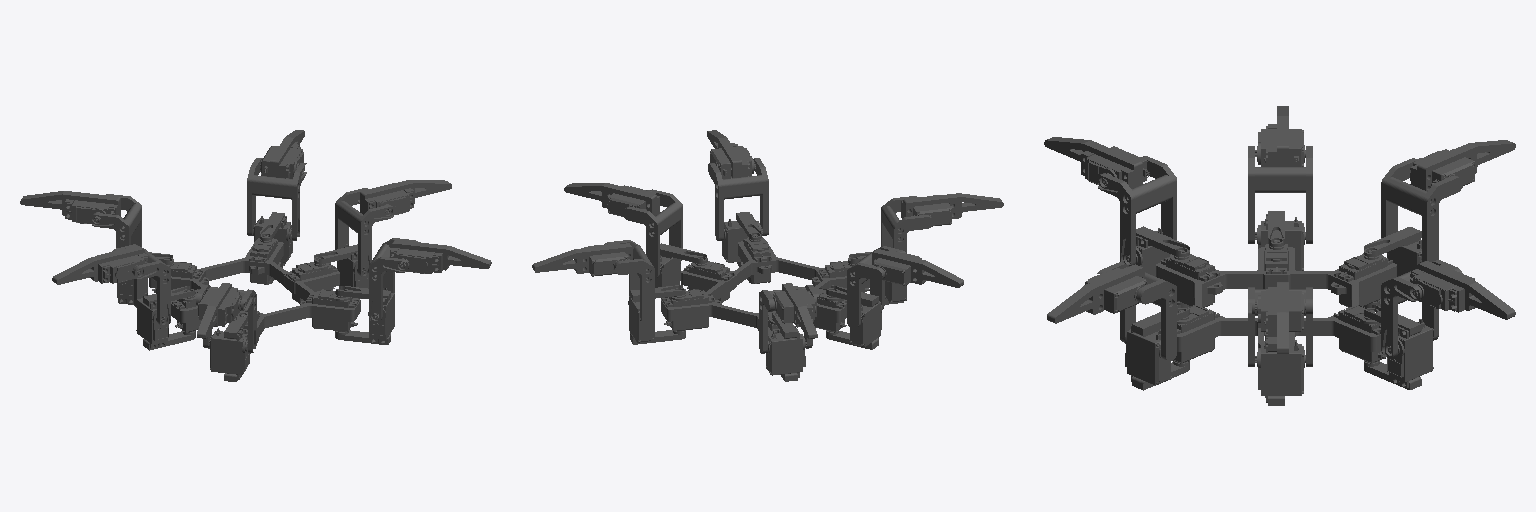
--- Render facts (derived) ---
The picture shows the robot from 3 angles, left to right: view 1: azimuth 30°, elevation 25°; view 2: azimuth 150°, elevation 25°; view 3: azimuth 270°, elevation 25°; orthographic projection.
Robot: hexapod — 55 links, 54 joints (18 revolute, 36 fixed); root link base; default pose: all joints at 0.
Visible links, largest first — view 1: base, leg_1_MG996R_f, leg_6_tibia, leg_2_tibia, leg_3_tibia, leg_5_tibia, leg_6_femur_c, leg_2_femur_c, leg_5_femur_c, leg_2_MG996R_f, leg_6_MG996R_c, leg_1_tibia (+18 smaller); view 2: base, leg_3_MG996R_f, leg_1_tibia, leg_4_tibia, leg_2_tibia, leg_4_femur_a, leg_5_tibia, leg_2_femur_a, leg_5_femur_a, leg_4_MG996R_c, leg_2_MG996R_f, leg_3_tibia (+20 smaller); view 3: base, leg_5_MG996R_f, leg_4_MG996R_f, leg_4_tibia, leg_6_MG996R_f, leg_6_tibia, leg_3_tibia, leg_1_tibia, leg_6_femur_a, leg_3_femur_a, leg_4_femur_c, leg_1_femur_c (+28 smaller).
Boxes of the visible links, bbox=[...] form: base: bbox=[149, 240, 360, 339]; leg_1_MG996R_f: bbox=[209, 328, 249, 379]; leg_6_tibia: bbox=[390, 240, 491, 272]; leg_2_tibia: bbox=[52, 246, 147, 284]; leg_3_tibia: bbox=[20, 191, 120, 218]; leg_5_tibia: bbox=[360, 180, 451, 214]; leg_6_femur_c: bbox=[369, 257, 408, 322]; leg_2_femur_c: bbox=[133, 261, 170, 325]; leg_5_femur_c: bbox=[358, 205, 394, 276]; leg_2_MG996R_f: bbox=[136, 293, 168, 348]; leg_6_MG996R_c: bbox=[306, 289, 358, 331]; leg_1_tibia: bbox=[197, 283, 237, 338]; base: bbox=[661, 239, 869, 333]; leg_3_MG996R_f: bbox=[766, 326, 806, 377]; leg_1_tibia: bbox=[901, 193, 1003, 218]; leg_4_tibia: bbox=[532, 243, 632, 273]; leg_2_tibia: bbox=[872, 249, 963, 287]; leg_4_femur_a: bbox=[614, 259, 654, 325]; leg_5_tibia: bbox=[564, 183, 659, 215]; leg_2_femur_a: bbox=[847, 263, 884, 328]; leg_5_femur_a: bbox=[622, 206, 659, 279]; leg_4_MG996R_c: bbox=[662, 289, 714, 331]; leg_2_MG996R_f: bbox=[850, 301, 882, 346]; leg_3_tibia: bbox=[782, 283, 817, 338]; base: bbox=[1156, 247, 1396, 351]; leg_5_MG996R_f: bbox=[1255, 337, 1304, 402]; leg_4_MG996R_f: bbox=[1387, 319, 1433, 388]; leg_4_tibia: bbox=[1411, 261, 1515, 319]; leg_6_MG996R_f: bbox=[1125, 325, 1171, 385]; leg_6_tibia: bbox=[1047, 264, 1144, 323]; leg_3_tibia: bbox=[1411, 140, 1515, 191]; leg_1_tibia: bbox=[1044, 137, 1142, 188]; leg_6_femur_a: bbox=[1136, 279, 1176, 361]; leg_3_femur_a: bbox=[1422, 175, 1463, 261]; leg_4_femur_c: bbox=[1381, 277, 1421, 357]; leg_1_femur_c: bbox=[1098, 173, 1135, 265].
Size in the robot's own frame: 0.4885 by 0.4015 by 0.1176 metres.
55 mesh visuals loaded from 14 distinct referenced files (13 binary STL, 1 ASCII STL).

The robot description file, URDF, robot "hexapod":
<?xml version='1.0' encoding='utf-8'?>
<robot name="hexapod">

    <material name="black">
        <color rgba="0 0 0 1" />
    </material>

    <material name="gray">
        <color rgba="0.4 0.4 0.4 1" />
    </material>

    <material name="white">
        <color rgba="1 1 1 1" />
    </material>

    <material name="orange">
        <color rgba="0.902 0.345 0 1" />
    </material>

    <!--Body links-->

    <link name="base">
        <inertial>
            <origin xyz="-1.762648324756278e-14 -5.050033455416569e-14 0.00698680031349181" rpy="0.0 0.0 0.0" />
            <mass value="0.6789580603579961" />
            <inertia ixx="0.0024074595101577626" iyy="0.002204354035625284" izz="0.004589855549230958" ixy="5.568836058961683e-16" iyz="-1.2787511591555878e-18" ixz="-2.581826811457711e-18" />
        </inertial>
        <visual name="base_visual">
            <origin xyz="0.0 0.0 0.0" rpy="0.0 0.0 0.0" />
            <geometry>
                <mesh filename="CAD/base.stl" scale="0.001 0.001 0.001" />
            </geometry>
            <material name="gray"/>
        </visual>
        <collision name="base_collision">
            <origin xyz="0.0 0.0 0.0" rpy="0.0 0.0 0.0" />
            <geometry>
                <mesh filename="CAD/base.stl" scale="0.001 0.001 0.001" />
            </geometry>
        </collision>
    </link>

    <!--Leg 1 links-->
    <link name="leg_1_MG996R_c">
        <inertial>
            <origin xyz="-0.0213566016347122 0.013931984749781528 0.00836989290746161" rpy="0.0 -0.0 0.0" />
            <mass value="0.207953278714177" />
            <inertia ixx="3.989639417761133e-05" iyy="3.989640031111844e-05" izz="3.6226092838335206e-05" ixy="1.1428841708080039e-05" iyz="3.349213930771384e-07" ixz="-3.349118845850951e-07" />
        </inertial>
        <visual name="leg_1_MG996R_c_visual">
            <origin xyz="-0.013930002111251416 -0.007283200121891475 2.2204460492503132e-17" rpy="3.141592653589793 1.245344534372108e-16 2.356194490192345" />
            <geometry>
                <mesh filename="CAD/MG996R.stl" scale="0.001 0.001 0.001" />
            </geometry>
            <material name="gray"/>
        </visual>
        <collision name="leg_1_MG996R_c_collision">
            <origin xyz="-0.013930002111251416 -0.007283200121891475 2.2204460492503132e-17" rpy="3.141592653589793 1.245344534372108e-16 2.356194490192345" />
            <geometry>
                <mesh filename="CAD/MG996R.stl" scale="0.001 0.001 0.001" />
            </geometry>
        </collision>
    </link>

    <link name="leg_1_MG996R_f">
        <inertial>
            <origin xyz="0.024952796767646526 0.009630716290236095 0.0022060948384998546" rpy="0.0 -0.0 0.0" />
            <mass value="0.207953278714177" />
            <inertia ixx="2.846755553628441e-05" iyy="4.377565917187119e-05" izz="4.377567261890959e-05" ixy="3.349144703087767e-07" iyz="-7.549573057054858e-06" ixz="3.349188073535178e-07" />
        </inertial>
        <visual name="leg_1_MG996R_f_visual">
            <origin xyz="0.004699996796564361 0.01060660093167094 -0.01060660586827753" rpy="2.3561944901923453 3.410597503508584e-17 1.540743955509788e-32" />
            <geometry>
                <mesh filename="CAD/MG996R.stl" scale="0.001 0.001 0.001" />
            </geometry>
            <material name="gray"/>
        </visual>
        <collision name="leg_1_MG996R_f_collision">
            <origin xyz="0.004699996796564361 0.01060660093167094 -0.01060660586827753" rpy="2.3561944901923453 3.410597503508584e-17 1.540743955509788e-32" />
            <geometry>
                <mesh filename="CAD/MG996R.stl" scale="0.001 0.001 0.001" />
            </geometry>
        </collision>
    </link>

    <link name="leg_1_MG996R_t">
        <inertial>
            <origin xyz="0.008979632074602933 -0.02311780679666102 4.09182035809863e-09" rpy="0.0 -0.0 7.002961686799377e-34" />
            <mass value="0.207953278714177" />
            <inertia ixx="3.187318053441031e-05" iyy="3.282046784020779e-05" izz="5.1325238952446006e-05" ixy="-3.879268651024205e-06" iyz="6.92276835135608e-12" ixz="-2.5857237346299217e-12" />
        </inertial>
        <visual name="leg_1_MG996R_t_visual">
            <origin xyz="0.0005771479097073318 -0.043357107026899176 -0.009749998110869998" rpy="1.5707963267948968 -2.529221735498422e-16 0.7853981633974484" />
            <geometry>
                <mesh filename="CAD/MG996R.stl" scale="0.001 0.001 0.001" />
            </geometry>
            <material name="gray"/>
        </visual>
        <collision name="leg_1_MG996R_t_collision">
            <origin xyz="0.0005771479097073318 -0.043357107026899176 -0.009749998110869998" rpy="1.5707963267948968 -2.529221735498422e-16 0.7853981633974484" />
            <geometry>
                <mesh filename="CAD/MG996R.stl" scale="0.001 0.001 0.001" />
            </geometry>
        </collision>
    </link>

    <link name="leg_1_coxa_a">
        <inertial>
            <origin xyz="0.008150925434592561 0.01830499415619695 0.0006271852210843588" rpy="0.0 -0.0 0.0" />
            <mass value="0.03329037594662584" />
            <inertia ixx="4.131218918157248e-06" iyy="4.292509549727152e-06" izz="8.13497513364118e-06" ixy="-3.4675873338201415e-06" iyz="-4.436065358599036e-08" ixz="-4.967608887462187e-08" />
        </inertial>
        <visual name="leg_1_coxa_a_visual">
            <origin xyz="-0.008308500528462624 0.0015909894715424855 -0.001750003203435586" rpy="-1.245344534372106e-16 1.5023172683244996e-16 -0.7853981633974481" />
            <geometry>
                <mesh filename="CAD/coxa_a_right.stl" scale="0.001 0.001 0.001" />
            </geometry>
            <material name="gray"/>
        </visual>
        <collision name="leg_1_coxa_a_collision">
            <origin xyz="-0.008308500528462624 0.0015909894715424855 -0.001750003203435586" rpy="-1.245344534372106e-16 1.5023172683244996e-16 -0.7853981633974481" />
            <geometry>
                <mesh filename="CAD/coxa_a_right.stl" scale="0.001 0.001 0.001" />
            </geometry>
        </collision>
    </link>

    <link name="leg_1_coxa_b">
        <inertial>
            <origin xyz="-0.016082730051457803 -0.015894011955612512 -0.005835649360206568" rpy="0.0 -0.0 0.0" />
            <mass value="0.04490836615745227" />
            <inertia ixx="7.570806724760545e-06" iyy="7.815179248384845e-06" izz="1.486969927151291e-05" ixy="-6.737300382606579e-06" iyz="-1.0459627444581849e-07" ixz="-1.0048041289742698e-07" />
        </inertial>
        <visual name="leg_1_coxa_b_visual">
            <origin xyz="-0.037476660528462616 -0.037476660528457516 0.04149999679656438" rpy="-1.245344534372106e-16 1.5023172683245e-16 -0.7853981633974481" />
            <geometry>
                <mesh filename="CAD/coxa_b_right.stl" scale="0.001 0.001 0.001" />
            </geometry>
            <material name="gray"/>
        </visual>
        <collision name="leg_1_coxa_b_collision">
            <origin xyz="-0.037476660528462616 -0.037476660528457516 0.04149999679656438" rpy="-1.245344534372106e-16 1.5023172683245e-16 -0.7853981633974481" />
            <geometry>
                <mesh filename="CAD/coxa_b_right.stl" scale="0.001 0.001 0.001" />
            </geometry>
        </collision>
    </link>

    <link name="leg_1_femur_a">
        <inertial>
            <origin xyz="-0.007313766969440483 -0.0018738117298011225 0.03907114287949463" rpy="0.0 -0.0 0.0" />
            <mass value="0.06532641332455354" />
            <inertia ixx="4.0924780174512575e-05" iyy="4.0827509479549485e-05" izz="8.434001460605163e-06" ixy="-3.990162260728773e-06" iyz="7.2994033516955215e-06" ixz="7.334386903970892e-06" />
        </inertial>
        <visual name="leg_1_femur_a_visual">
            <origin xyz="-0.0007071020514142746 0.0007071066182250796 -3.203435625653839e-09" rpy="1.5707963267948966 -0.6108652381980162 -2.356194490192345" />
            <geometry>
                <mesh filename="CAD/femur_a_right.stl" scale="0.001 0.001 0.001" />
            </geometry>
            <material name="gray"/>
        </visual>
        <collision name="leg_1_femur_a_collision">
            <origin xyz="-0.0007071020514142746 0.0007071066182250796 -3.203435625653839e-09" rpy="1.5707963267948966 -0.6108652381980162 -2.356194490192345" />
            <geometry>
                <mesh filename="CAD/femur_a_right.stl" scale="0.001 0.001 0.001" />
            </geometry>
        </collision>
    </link>
    
    <link name="leg_1_femur_b">
        <inertial>
            <origin xyz="0.015606805962859537 0.015152340349115861 -0.0052004379221506185" rpy="0.0 -0.0 -7.002961686799377e-34" />
            <mass value="0.0800214310563922" />
            <inertia ixx="9.693159673782297e-06" iyy="9.69315967378208e-06" izz="1.3901924233197978e-05" ixy="-5.667417293105776e-06" iyz="-1.3985747771352728e-07" ixz="1.398574777137448e-07" />
        </inertial>
        <visual name="leg_1_femur_b_visual">
            <origin xyz="-2.051414238479765e-09 3.3817748779085832e-09 0.04770578320343561" rpy="-1.5707963267948968 0.6108652381980162 2.356194490192345" />
            <geometry>
                <mesh filename="CAD/femur_b_right.stl" scale="0.001 0.001 0.001" />
            </geometry>
            <material name="gray"/>
        </visual>
        <collision name="leg_1_femur_b_collision">
            <origin xyz="-2.051414238479765e-09 3.3817748779085832e-09 0.04770578320343561" rpy="-1.5707963267948968 0.6108652381980162 2.356194490192345" />
            <geometry>
                <mesh filename="CAD/femur_b_right.stl" scale="0.001 0.001 0.001" />
            </geometry>
        </collision>
    </link>

    <link name="leg_1_femur_c">
        <inertial>
            <origin xyz="-0.0010886446390956995 -0.004918304334164514 -0.006733416303654849" rpy="0.0 -0.0 7.002961686799377e-34" />
            <mass value="0.048399072148255506" />
            <inertia ixx="2.2465407655417502e-05" iyy="2.259983189186051e-05" izz="4.141692185716337e-06" ixy="-1.929776213000357e-06" iyz="3.2931885882197726e-06" ixz="3.246172654049007e-06" />
        </inertial>
        <visual name="leg_1_femur_c_visual">
            <origin xyz="-0.030759142051414213 0.03075914661822509 -0.04770578320343558" rpy="1.5707963267948966 -0.6108652381980162 -2.356194490192345" />
            <geometry>
                <mesh filename="CAD/femur_c_right.stl" scale="0.001 0.001 0.001" />
            </geometry>
            <material name="gray"/>
        </visual>
        <collision name="leg_1_femur_c_collision">
            <origin xyz="-0.030759142051414213 0.03075914661822509 -0.04770578320343558" rpy="1.5707963267948966 -0.6108652381980162 -2.356194490192345" />
            <geometry>
                <mesh filename="CAD/femur_c_right.stl" scale="0.001 0.001 0.001" />
            </geometry>
        </collision>
    </link>

    <link name="leg_1_tibia">
        <inertial>
            <origin xyz="-0.04085132676876166 0.025253080823863953 -0.009277024870086095" rpy="0.0 -0.0 -1.6038036517675087e-64" />
            <mass value="0.10828707727885009" />
            <inertia ixx="5.5437188486367334e-05" iyy="6.147434583849689e-05" izz="0.0001071830159033978" ixy="5.173583962738001e-05" iyz="-2.259988236504463e-06" ixz="1.476543947169463e-06" />
        </inertial>
        <visual name="leg_1_tibia_visual">
            <origin xyz="-0.03719381938681872 0.026870057867797073 0.004749998110869997" rpy="2.356194490192345 1.5707963267948963 0" />
            <geometry>
                <mesh filename="CAD/tibia_right.stl" scale="0.001 0.001 0.001" />
            </geometry>
            <material name="gray"/>
        </visual>
        <collision name="leg_1_tibia_collision">
            <origin xyz="-0.03719381938681872 0.026870057867797073 0.004749998110869997" rpy="2.356194490192345 1.5707963267948963 0" />
            <geometry>
                <mesh filename="CAD/tibia_right.stl" scale="0.001 0.001 0.001" />
            </geometry>
        </collision>
    </link>

    <!-- Leg 2 links -->
    <link name="leg_2_MG996R_c">
        <inertial>
            <origin xyz="-0.024952799971082146 0.005250002202690392 0.008369892907461582" rpy="0.0 -0.0 0.0" />
            <mass value="0.207953278714177" />
            <inertia ixx="2.8467555536284703e-05" iyy="5.132523895244492e-05" izz="3.6226092838336074e-05" ixy="-3.0667533548436243e-12" iyz="6.723519192224986e-12" ixz="-4.736436528994054e-07" />
        </inertial>
        <visual name="leg_2_MG996R_c_visual">
            <origin xyz="-0.004700000000000069 -0.004499999999999934 -4.440892098500626e-18" rpy="3.141592653589793 1.2514850379350087e-16 3.141592653589793" />
            <geometry>
                <mesh filename="CAD/MG996R.stl" scale="0.001 0.001 0.001" />
            </geometry>
            <material name="gray"/>
        </visual>
        <collision name="leg_2_MG996R_c_collision">
            <origin xyz="-0.004700000000000069 -0.004499999999999934 -4.440892098500626e-18" rpy="3.141592653589793 1.2514850379350087e-16 3.141592653589793" />
            <geometry>
                <mesh filename="CAD/MG996R.stl" scale="0.001 0.001 0.001" />
            </geometry>
        </collision>
    </link>

    <link name="leg_2_MG996R_f">
        <inertial>
            <origin xyz="0.024952796767646605 0.008369892907461447 0.005250002202690141" rpy="0.0 -0.0 0.0" />
            <mass value="0.207953278714177" />
            <inertia ixx="2.8467555536284845e-05" iyy="3.622609283833412e-05" izz="5.1325238952444346e-05" ixy="4.7364365289941395e-07" iyz="6.723519520811499e-12" ixz="3.0667537330138564e-12" />
        </inertial>
        <visual name="leg_2_MG996R_f_visual">
            <origin xyz="0.004699996796564441 -1.176836406102666e-16 -0.004500000000000206" rpy="1.570796326794899 3.106065884736969e-17 -3.1060658847369654e-17" />
            <geometry>
                <mesh filename="CAD/MG996R.stl" scale="0.001 0.001 0.001" />
            </geometry>
            <material name="gray"/>
        </visual>
        <collision name="leg_2_MG996R_f_collision">
            <origin xyz="0.004699996796564441 -1.176836406102666e-16 -0.004500000000000206" rpy="1.570796326794899 3.106065884736969e-17 -3.1060658847369654e-17" />
            <geometry>
                <mesh filename="CAD/MG996R.stl" scale="0.001 0.001 0.001" />
            </geometry>
        </collision>
    </link>

    <link name="leg_2_MG996R_t">
        <inertial>
            <origin xyz="-0.009997198350766468 -0.022696317092538602 4.091820313689709e-09" rpy="0.0 -0.0 0.0" />
            <mass value="0.207953278714177" />
            <inertia ixx="2.846755553628441e-05" iyy="3.622609283833629e-05" izz="5.1325238952446006e-05" ixy="4.7364365289906656e-07" iyz="6.723519185386452e-12" ixz="3.066753448410786e-12" />
        </inertial>
        <visual name="leg_2_MG996R_t_visual">
            <origin xyz="-0.030249998321848538 -0.03106621000000017 -0.00974999811087005" rpy="1.5707963267948968 -5.562433471528925e-16 1.6653345369377316e-16" />
            <geometry>
                <mesh filename="CAD/MG996R.stl" scale="0.001 0.001 0.001" />
            </geometry>
            <material name="gray"/>
        </visual>
        <collision name="leg_2_MG996R_t_collision">
            <origin xyz="-0.030249998321848538 -0.03106621000000017 -0.00974999811087005" rpy="1.5707963267948968 -5.562433471528925e-16 1.6653345369377316e-16" />
            <geometry>
                <mesh filename="CAD/MG996R.stl" scale="0.001 0.001 0.001" />
            </geometry>
        </collision>
    </link>

    <link name="leg_2_coxa_a">
        <inertial>
            <origin xyz="0.018707157766217345 0.00718001434038852 0.0006271852210843853" rpy="0.0 -0.0 0.0" />
            <mass value="0.03329037594662584" />
            <inertia ixx="7.442769001220687e-07" iyy="7.67945156776226e-06" izz="8.134975133641234e-06" ixy="8.064531578484873e-08" iyz="3.7585803375684765e-09" ixz="-6.649401827460747e-08" />
        </inertial>
        <visual name="leg_2_coxa_a_visual">
            <origin xyz="-0.0047499999999997475 0.006999999999999875 -0.0017500032034355596" rpy="-1.3218501401405977e-16 1.5665418669671956e-16 -1.5707963267948943" />
            <geometry>
                <mesh filename="CAD/coxa_a_right.stl" scale="0.001 0.001 0.001" />
            </geometry>
            <material name="gray"/>
        </visual>
        <collision name="leg_2_coxa_a_collision">
            <origin xyz="-0.0047499999999997475 0.006999999999999875 -0.0017500032034355596" rpy="-1.3218501401405977e-16 1.5665418669671956e-16 -1.5707963267948943" />
            <geometry>
                <mesh filename="CAD/coxa_a_right.stl" scale="0.001 0.001 0.001" />
            </geometry>
        </collision>
    </link>

    <link name="leg_2_coxa_b">
        <inertial>
            <origin xyz="-0.022610969521651363 0.000133443845301142 -0.005835649360206497" rpy="0.0 -0.0 0.0" />
            <mass value="0.04490836615745227" />
            <inertia ixx="9.55692603965828e-07" iyy="1.4430293369179057e-05" izz="1.4869699271513235e-05" ixy="1.221862618118398e-07" iyz="-2.9103536113086024e-09" ixz="-1.4501111628368105e-07" />
        </inertial>
        <visual name="leg_2_coxa_b_visual">
            <origin xyz="-0.05299999999999983 -7.105427357601002e-17 0.04149999679656445" rpy="-1.3218501401405972e-16 1.5665418669671956e-16 -1.5707963267948943" />
            <geometry>
                <mesh filename="CAD/coxa_b_right.stl" scale="0.001 0.001 0.001" />
            </geometry>
            <material name="gray"/>
        </visual>
        <collision name="leg_2_coxa_b_collision">
            <origin xyz="-0.05299999999999983 -7.105427357601002e-17 0.04149999679656445" rpy="-1.3218501401405972e-16 1.5665418669671956e-16 -1.5707963267948943" />
            <geometry>
                <mesh filename="CAD/coxa_b_right.stl" scale="0.001 0.001 0.001" />
            </geometry>
        </collision>
    </link>

    <link name="leg_2_femur_a">
        <inertial>
            <origin xyz="-0.006496602430141571 0.0038466359024208695 0.039071142879494716" rpy="0.0 -0.0 0.0" />
            <mass value="0.06532641332455354" />
            <inertia ixx="3.6885982566301823e-05" iyy="4.486630708775948e-05" izz="8.434001460604947e-06" ixy="-4.863534748184343e-08" iyz="-2.473710704388476e-08" ixz="1.0347652324243302e-05" />
        </inertial>
        <visual name="leg_2_femur_a_visual">
            <origin xyz="1.4210854715202004e-16 0.0010000032034353757 -3.203435545717781e-09" rpy="1.5707963267948966 -0.6108652381980165 3.141592653589793" />
            <geometry>
                <mesh filename="CAD/femur_a_right.stl" scale="0.001 0.001 0.001" />
            </geometry>
            <material name="gray"/>
        </visual>
        <collision name="leg_2_femur_a_collision">
            <origin xyz="1.4210854715202004e-16 0.0010000032034353757 -3.203435545717781e-09" rpy="1.5707963267948966 -0.6108652381980165 3.141592653589793" />
            <geometry>
                <mesh filename="CAD/femur_a_right.stl" scale="0.001 0.001 0.001" />
            </geometry>
        </collision>
    </link>
    
    <link name="leg_2_femur_b">
        <inertial>
            <origin xyz="0.00032135955913933147 0.021749996796564624 -0.005200437922150671" rpy="0.0 -0.0 0.0" />
            <mass value="0.0800214310563922" />
            <inertia ixx="1.536057696688715e-05" iyy="4.025742380675979e-06" izz="1.3901924233198412e-05" ixy="6.844026213814747e-19" iyz="1.3213713977167085e-19" ixz="1.9778834178156915e-07" />
        </inertial>
        <visual name="leg_2_femur_b_visual">
            <origin xyz="1.7763568394002506e-16 -3.203435303689162e-09 0.04770578320343555" rpy="-1.5707963267948966 0.6108652381980165 -3.141592653589793" />
            <geometry>
                <mesh filename="CAD/femur_b_right.stl" scale="0.001 0.001 0.001" />
            </geometry>
            <material name="gray"/>
        </visual>
        <collision name="leg_2_femur_b_collision">
            <origin xyz="1.7763568394002506e-16 -3.203435303689162e-09 0.04770578320343555" rpy="-1.5707963267948966 0.6108652381980165 -3.141592653589793" />
            <geometry>
                <mesh filename="CAD/femur_b_right.stl" scale="0.001 0.001 0.001" />
            </geometry>
        </collision>
    </link>

    <link name="leg_2_femur_c">
        <inertial>
            <origin xyz="-0.004247557582456559 -0.0027079742218780512 -0.016733416303654804" rpy="0.0 -0.0 0.0" />
            <mass value="0.048399072148255506" />
            <inertia ixx="2.0602843560638297e-05" iyy="2.4462395986639147e-05" izz="4.141692185716554e-06" ixy="6.721211822085377e-08" iyz="3.3245285875999574e-08" ixz="4.624026679036694e-06" />
        </inertial>
        <visual name="leg_2_femur_c_visual">
            <origin xyz="1.9539925233402755e-16 0.043500003203435327 -0.05770578320343554" rpy="1.5707963267948966 -0.6108652381980164 3.1415926535897927" />
            <geometry>
                <mesh filename="CAD/femur_c_right.stl" scale="0.001 0.001 0.001" />
            </geometry>
            <material name="gray"/>
        </visual>
        <collision name="leg_2_femur_c_collision">
            <origin xyz="1.9539925233402755e-16 0.043500003203435327 -0.05770578320343554" rpy="1.5707963267948966 -0.6108652381980164 3.1415926535897927" />
            <geometry>
                <mesh filename="CAD/femur_c_right.stl" scale="0.001 0.001 0.001" />
            </geometry>
        </collision>
    </link>

    <link name="leg_2_tibia">
        <inertial>
            <origin xyz="0.0028571288389278495 0.011029623704799596 0.00927702487008597" rpy="0.0 -0.0 4.125340265343691e-64" />
            <mass value="0.10828707727885009" />
            <inertia ixx="6.719927535051777e-06" iyy="0.00011019160678981191" izz="0.00010718301590339737" ixy="3.0185786760642376e-06" iyz="-5.539787696705092e-07" ixz="-2.642127245197634e-06" />
        </inertial>
        <visual name="leg_2_tibia_visual">
            <origin xyz="0.0043000016781514815 0.007299999999999815 -0.004749998110870122" rpy="-1.5707963267948966 -1.5707963267948961 0" />
            <geometry>
                <mesh filename="CAD/tibia_right.stl" scale="0.001 0.001 0.001" />
            </geometry>
            <material name="gray"/>
        </visual>
        <collision name="leg_2_tibia_collision">
            <origin xyz="0.0043000016781514815 0.007299999999999815 -0.004749998110870122" rpy="-1.5707963267948966 -1.5707963267948961 0" />
            <geometry>
                <mesh filename="CAD/tibia_right.stl" scale="0.001 0.001 0.001" />
            </geometry>
        </collision>
    </link>

    <!-- Leg 3 links -->
    <link name="leg_3_MG996R_c">
        <inertial>
            <origin xyz="-0.013931984749787879 -0.02135660163470809 0.008369892907461584" rpy="0.0 -0.0 0.0" />
            <mass value="0.207953278714177" />
            <inertia ixx="3.989640031111866e-05" iyy="3.989639417761111e-05" izz="3.6226092838336074e-05" ixy="-1.1428841708080147e-05" iyz="-3.349118845850544e-07" ixz="-3.349213930771926e-07" />
        </inertial>
        <visual name="leg_3_MG996R_c_visual">
            <origin xyz="0.007283200121885134 -0.013930002111247317 -6.661338147750939e-18" rpy="3.1415926535897927 1.586806286402691e-16 -2.356194490192345" />
            <geometry>
                <mesh filename="CAD/MG996R.stl" scale="0.001 0.001 0.001" />
            </geometry>
            <material name="gray"/>
        </visual>
        <collision name="leg_3_MG996R_c_collision">
            <origin xyz="0.007283200121885134 -0.013930002111247317 -6.661338147750939e-18" rpy="3.1415926535897927 1.586806286402691e-16 -2.356194490192345" />
            <geometry>
                <mesh filename="CAD/MG996R.stl" scale="0.001 0.001 0.001" />
            </geometry>
        </collision>
    </link>

    <link name="leg_3_MG996R_f">
        <inertial>
            <origin xyz="0.024952796767646567 0.0022060948384957334 -0.009630716290229949" rpy="0.0 -0.0 0.0" />
            <mass value="0.207953278714177" />
            <inertia ixx="2.8467555536283544e-05" iyy="4.377567261890894e-05" izz="4.377565917186967e-05" ixy="3.349188073535652e-07" iyz="7.5495730570552914e-06" ixz="-3.3491447030884445e-07" />
        </inertial>
        <visual name="leg_3_MG996R_f_visual">
            <origin xyz="0.004699996796564403 -0.010606605868281669 -0.010606600931664793" rpy="0.7853981633974482 -1.7256332301709629e-31 -2.386633879938858e-16" />
            <geometry>
                <mesh filename="CAD/MG996R.stl" scale="0.001 0.001 0.001" />
            </geometry>
            <material name="gray"/>
        </visual>
        <collision name="leg_3_MG996R_f_collision">
            <origin xyz="0.004699996796564403 -0.010606605868281669 -0.010606600931664793" rpy="0.7853981633974482 -1.7256332301709629e-31 -2.386633879938858e-16" />
            <geometry>
                <mesh filename="CAD/MG996R.stl" scale="0.001 0.001 0.001" />
            </geometry>
        </collision>
    </link>

    <link name="leg_3_MG996R_t">
        <inertial>
            <origin xyz="-0.02311780679666722 -0.00897963207460709 4.09182025151722e-09" rpy="-3.0814879110195774e-33 -0.0 4.9780954463047874e-34" />
            <mass value="0.207953278714177" />
            <inertia ixx="3.282046784020779e-05" iyy="3.187318053441116e-05" izz="5.132523895244599e-05" ixy="3.879268651025068e-06" iyz="2.5857233037326132e-12" ixz="6.922768561105084e-12" />
        </inertial>
        <visual name="leg_3_MG996R_t_visual">
            <origin xyz="-0.04335710702690537 -0.0005771479097114707 -0.009749998110870121" rpy="1.5707963267948977 -4.813217404829715e-16 -0.7853981633974486" />
            <geometry>
                <mesh filename="CAD/MG996R.stl" scale="0.001 0.001 0.001" />
            </geometry>
            <material name="gray"/>
        </visual>
        <collision name="leg_3_MG996R_t_collision">
            <origin xyz="-0.04335710702690537 -0.0005771479097114707 -0.009749998110870121" rpy="1.5707963267948977 -4.813217404829715e-16 -0.7853981633974486" />
            <geometry>
                <mesh filename="CAD/MG996R.stl" scale="0.001 0.001 0.001" />
            </geometry>
        </collision>
    </link>

    <link name="leg_3_coxa_a">
        <inertial>
            <origin xyz="0.01830499415619089 -0.008150925434596666 0.0006271852210843631" rpy="0.0 -0.0 -6.566986231973194e-63" />
            <mass value="0.03329037594662584" />
            <inertia ixx="4.292509549727098e-06" iyy="4.131218918157248e-06" izz="8.13497513364118e-06" ixy="3.4675873338200873e-06" iyz="4.967608887466253e-08" ixz="-4.436065358600391e-08" />
        </inertial>
        <visual name="leg_3_coxa_a_visual">
            <origin xyz="0.001590989471536428 0.00830850052845852 -0.0017500032034355774" rpy="-2.4306087867598536e-16 7.892504736715235e-16 -2.356194490192345" />
            <geometry>
                <mesh filename="CAD/coxa_a_right.stl" scale="0.001 0.001 0.001" />
            </geometry>
            <material name="gray"/>
        </visual>
        <collision name="leg_3_coxa_a_collision">
            <origin xyz="0.001590989471536428 0.00830850052845852 -0.0017500032034355774" rpy="-2.4306087867598536e-16 7.892504736715235e-16 -2.356194490192345" />
            <geometry>
                <mesh filename="CAD/coxa_a_right.stl" scale="0.001 0.001 0.001" />
            </geometry>
        </collision>
    </link>

    <link name="leg_3_coxa_b">
        <inertial>
            <origin xyz="-0.015894011955618632 0.01608273005145376 -0.005835649360206514" rpy="0.0 -0.0 -3.0385816786431342e-64" />
            <mass value="0.04490836615745227" />
            <inertia ixx="7.815179248384956e-06" iyy="7.570806724760494e-06" izz="1.4869699271513133e-05" ixy="6.737300382606636e-06" iyz="1.0048041289748125e-07" ixz="-1.0459627444577788e-07" />
        </inertial>
        <visual name="leg_3_coxa_b_visual">
            <origin xyz="-0.03747666052846363 0.037476660528458564 0.04149999679656442" rpy="-2.430608786759849e-16 7.892504736715233e-16 -2.356194490192345" />
            <geometry>
                <mesh filename="CAD/coxa_b_right.stl" scale="0.001 0.001 0.001" />
            </geometry>
            <material name="gray"/>
        </visual>
        <collision name="leg_3_coxa_b_collision">
            <origin xyz="-0.03747666052846363 0.037476660528458564 0.04149999679656442" rpy="-2.430608786759849e-16 7.892504736715233e-16 -2.356194490192345" />
            <geometry>
                <mesh filename="CAD/coxa_b_right.stl" scale="0.001 0.001 0.001" />
            </geometry>
        </collision>
    </link>

    <link name="leg_3_femur_a">
        <inertial>
            <origin xyz="-0.0018738117298073664 0.007313766969436255 0.039071142879494695" rpy="0.0 -0.0 -6.566986231973194e-63" />
            <mass value="0.06532641332455354" />
            <inertia ixx="4.0827509479549485e-05" iyy="4.0924780174512575e-05" izz="8.434001460605163e-06" ixy="3.9901622607286646e-06" iyz="-7.334386903970838e-06" ixz="7.299403351695576e-06" />
        </inertial>
        <visual name="leg_3_femur_a_visual">
            <origin xyz="0.0007071066182188535 0.0007071020514100468 -3.203435556820011e-09" rpy="1.5707963267948954 -0.6108652381980157 2.356194490192345" />
            <geometry>
                <mesh filename="CAD/femur_a_right.stl" scale="0.001 0.001 0.001" />
            </geometry>
            <material name="gray"/>
        </visual>
        <collision name="leg_3_femur_a_collision">
            <origin xyz="0.0007071066182188535 0.0007071020514100468 -3.203435556820011e-09" rpy="1.5707963267948954 -0.6108652381980157 2.356194490192345" />
            <geometry>
                <mesh filename="CAD/femur_a_right.stl" scale="0.001 0.001 0.001" />
            </geometry>
        </collision>
    </link>

    <link name="leg_3_femur_b">
        <inertial>
            <origin xyz="-0.01515234034912214 0.015606805962863747 -0.005200437922150627" rpy="-3.0814879110195774e-33 -0.0 -4.9780954463047874e-34" />
            <mass value="0.0800214310563922" />
            <inertia ixx="9.69315967378208e-06" iyy="9.693159673782294e-06" izz="1.3901924233198408e-05" ixy="5.667417293105668e-06" iyz="1.3985747771374653e-07" ixz="1.3985747771342154e-07" />
        </inertial>
        <visual name="leg_3_femur_b_visual">
            <origin xyz="-3.381781095157521e-09 -2.0514100640411924e-09 0.0477057832034356" rpy="-1.5707963267948981 0.6108652381980159 -2.356194490192345" />
            <geometry>
                <mesh filename="CAD/femur_b_right.stl" scale="0.001 0.001 0.001" />
            </geometry>
            <material name="gray"/>
        </visual>
        <collision name="leg_3_femur_b_collision">
            <origin xyz="-3.381781095157521e-09 -2.0514100640411924e-09 0.0477057832034356" rpy="-1.5707963267948981 0.6108652381980159 -2.356194490192345" />
            <geometry>
                <mesh filename="CAD/femur_b_right.stl" scale="0.001 0.001 0.001" />
            </geometry>
        </collision>
    </link>

    <link name="leg_3_femur_c">
        <inertial>
            <origin xyz="-0.004918304334170714 0.0010886446390916049 -0.006733416303654902" rpy="0.0 -0.0 1.0492855462980036e-33" />
            <mass value="0.048399072148255506" />
            <inertia ixx="2.259983189186062e-05" iyy="2.2465407655417502e-05" izz="4.141692185716335e-06" ixy="1.9297762130003584e-06" iyz="-3.246172654048922e-06" ixz="3.293188588219827e-06" />
        </inertial>
        <visual name="leg_3_femur_c_visual">
            <origin xyz="0.030759146618218953 0.03075914205141009 -0.04770578320343557" rpy="1.5707963267948948 -0.6108652381980161 2.3561944901923457" />
            <geometry>
                <mesh filename="CAD/femur_c_right.stl" scale="0.001 0.001 0.001" />
            </geometry>
            <material name="gray"/>
        </visual>
        <collision name="leg_3_femur_c_collision">
            <origin xyz="0.030759146618218953 0.03075914205141009 -0.04770578320343557" rpy="1.5707963267948948 -0.6108652381980161 2.3561944901923457" />
            <geometry>
                <mesh filename="CAD/femur_c_right.stl" scale="0.001 0.001 0.001" />
            </geometry>
        </collision>
    </link>

    <link name="leg_3_tibia">
        <inertial>
            <origin xyz="0.009819416807214943 0.005778831687367969 -0.001222975129914019" rpy="0.0 -0.0 -1.0333099986636088e-92" />
            <mass value="0.10828707727885009" />
            <inertia ixx="6.147434583849689e-05" iyy="5.5437188486367334e-05" izz="0.00010718301590339693" ixy="5.173583962737958e-05" iyz="1.4765439471692461e-06" ixz="-2.259988236504246e-06" />
        </inertial>
        <visual name="leg_3_tibia_visual">
            <origin xyz="0.008202439763281824 0.002121324305425034 -0.015249998110870121" rpy="-2.3561944901923453 -1.5707963267948961 0" />
            <geometry>
                <mesh filename="CAD/tibia_right.stl" scale="0.001 0.001 0.001" />
            </geometry>
            <material name="gray"/>
        </visual>
        <collision name="leg_3_tibia_collision">
            <origin xyz="0.008202439763281824 0.002121324305425034 -0.015249998110870121" rpy="-2.3561944901923453 -1.5707963267948961 0" />
            <geometry>
                <mesh filename="CAD/tibia_right.stl" scale="0.001 0.001 0.001" />
            </geometry>
        </collision>
    </link>

    <!-- Leg 4 links -->
    <link name="leg_4_MG996R_c">
        <inertial>
            <origin xyz="0.0139319816347132 -0.021356604749782716 0.008369892907461587" rpy="0.0 -0.0 0.0" />
            <mass value="0.207953278714177" />
            <inertia ixx="3.9896394177610676e-05" iyy="3.989640031111909e-05" izz="3.622609283833586e-05" ixy="1.1428841708080689e-05" iyz="-3.349213930772468e-07" ixz="3.349118845849731e-07" />
        </inertial>
        <visual name="leg_4_MG996R_c_visual">
            <origin xyz="0.0065053821112524895 -0.0001414198781096676 -8.881784197001253e-18" rpy="3.1415926535897922 3.934719975559736e-16 -0.785398163397451" />
            <geometry>
                <mesh filename="CAD/MG996R.stl" scale="0.001 0.001 0.001" />
            </geometry>
            <material name="gray"/>
        </visual>
        <collision name="leg_4_MG996R_c_collision">
            <origin xyz="0.0065053821112524895 -0.0001414198781096676 -8.881784197001253e-18" rpy="3.1415926535897922 3.934719975559736e-16 -0.785398163397451" />
            <geometry>
                <mesh filename="CAD/MG996R.stl" scale="0.001 0.001 0.001" />
            </geometry>
        </collision>
    </link>

    <link name="leg_4_MG996R_f">
        <inertial>
            <origin xyz="0.024952796767646453 -0.002206091723421242 -0.009630719405304689" rpy="2.736911063134407e-48 -0.0 0.0" />
            <mass value="0.207953278714177" />
            <inertia ixx="2.846755553628441e-05" iyy="4.377565917187142e-05" izz="4.377567261890917e-05" ixy="-3.349144703086209e-07" iyz="-7.549573057054861e-06" ixz="-3.3491880735336197e-07" />
        </inertial>
        <visual name="leg_4_MG996R_f_visual">
            <origin xyz="0.004699996796564283 -0.0031819763648561405 0.0031819813014726784" rpy="-0.7853981633974395 -5.329965436152269e-16 -4.450087234578097e-16" />
            <geometry>
                <mesh filename="CAD/MG996R.stl" scale="0.001 0.001 0.001" />
            </geometry>
            <material name="gray"/>
        </visual>
        <collision name="leg_4_MG996R_f_collision">
            <origin xyz="0.004699996796564283 -0.0031819763648561405 0.0031819813014726784" rpy="-0.7853981633974395 -5.329965436152269e-16 -4.450087234578097e-16" />
            <geometry>
                <mesh filename="CAD/MG996R.stl" scale="0.001 0.001 0.001" />
            </geometry>
        </collision>
    </link>

    <link name="leg_4_MG996R_t">
        <inertial>
            <origin xyz="0.02311780679666713 -0.008979632074606787 -3.135605020077037e-10" rpy="0.0 -0.0 0.0" />
            <mass value="0.207953278714177" />
            <inertia ixx="3.282046784020951e-05" iyy="3.187318053441031e-05" izz="5.1325238952446006e-05" ixy="-3.879268651025939e-06" iyz="-2.5857237368583637e-12" ixz="6.92276835090207e-12" />
        </inertial>
        <visual name="leg_4_MG996R_t_visual">
            <origin xyz="0.0433571070269053 -0.0005771479097110977 0.009750001889129835" rpy="-1.5707963267948954 -1.2413395815914948e-15 -2.356194490192342" />
            <geometry>
                <mesh filename="CAD/MG996R.stl" scale="0.001 0.001 0.001" />
            </geometry>
            <material name="gray"/>
        </visual>
        <collision name="leg_4_MG996R_t_collision">
            <origin xyz="0.0433571070269053 -0.0005771479097110977 0.009750001889129835" rpy="-1.5707963267948954 -1.2413395815914948e-15 -2.356194490192342" />
            <geometry>
                <mesh filename="CAD/MG996R.stl" scale="0.001 0.001 0.001" />
            </geometry>
        </collision>
    </link>

    <link name="leg_4_coxa_a">
        <inertial>
            <origin xyz="-0.018304994156190926 -0.008150925434596737 0.0006271852210842211" rpy="5.473822126268817e-48 -0.0 1.0804103758398477e-62" />
            <mass value="0.03329037594662584" />
            <inertia ixx="4.292509549727261e-06" iyy="4.13121891815725e-06" izz="8.134975133641183e-06" ixy="-3.467587333820305e-06" iyz="4.9676088874608346e-08" ixz="4.436065358600392e-08" />
        </inertial>
        <visual name="leg_4_coxa_a_visual">
            <origin xyz="-0.001590989471536517 0.008308500528458503 -0.0017500032034357372" rpy="3.1415926535897927 -1.267482847470117e-15 -0.7853981633974424" />
            <geometry>
                <mesh filename="CAD/coxa_a_left.stl" scale="0.001 0.001 0.001" />
            </geometry>
            <material name="gray"/>
        </visual>
        <collision name="leg_4_coxa_a_collision">
            <origin xyz="-0.001590989471536517 0.008308500528458503 -0.0017500032034357372" rpy="3.1415926535897927 -1.267482847470117e-15 -0.7853981633974424" />
            <geometry>
                <mesh filename="CAD/coxa_a_left.stl" scale="0.001 0.001 0.001" />
            </geometry>
        </collision>
    </link>

    <link name="leg_4_coxa_b">
        <inertial>
            <origin xyz="0.015894011955610923 0.016082730051461224 -0.0058356493602066606" rpy="0.0 -0.0 -1.349401336733507e-79" />
            <mass value="0.044908366157452306" />
            <inertia ixx="7.815179248057144e-06" iyy="7.57080672445339e-06" izz="1.4869699270877784e-05" ixy="-6.737300381971778e-06" iyz="1.0048041289651896e-07" ixz="1.0459627444679427e-07" />
        </inertial>
        <visual name="leg_4_coxa_b_visual">
            <origin xyz="0.03747666052846345 0.037476660528458564 0.0414999967965643" rpy="3.141592653589793 -1.2674828474701173e-15 -0.7853981633974424" />
            <geometry>
                <mesh filename="CAD/coxa_b_left.stl" scale="0.001 0.001 0.001" />
            </geometry>
            <material name="gray"/>
        </visual>
        <collision name="leg_4_coxa_b_collision">
            <origin xyz="0.03747666052846345 0.037476660528458564 0.0414999967965643" rpy="3.141592653589793 -1.2674828474701173e-15 -0.7853981633974424" />
            <geometry>
                <mesh filename="CAD/coxa_b_left.stl" scale="0.001 0.001 0.001" />
            </geometry>
        </collision>
    </link>

    <link name="leg_4_femur_a">
        <inertial>
            <origin xyz="0.0018738117298147028 0.007313766969443912 0.039071142879501995" rpy="5.473822126268817e-48 -0.0 1.0804103758398477e-62" />
            <mass value="0.06532641332455366" />
            <inertia ixx="4.08275094788376e-05" iyy="4.092478017380569e-05" izz="8.434001460452945e-06" ixy="-3.990162260653205e-06" iyz="-7.334386904503293e-06" ixz="-7.2994033522306854e-06" />
        </inertial>
        <visual name="leg_4_femur_a_visual">
            <origin xyz="-0.0007071066182189601 0.0007071020514102066 -3.203435718912573e-09" rpy="1.5707963267948952 -0.6108652381980154 0.7853981633974507" />
            <geometry>
                <mesh filename="CAD/femur_a_left.stl" scale="0.001 0.001 0.001" />
            </geometry>
            <material name="gray"/>
        </visual>
        <collision name="leg_4_femur_a_collision">
            <origin xyz="-0.0007071066182189601 0.0007071020514102066 -3.203435718912573e-09" rpy="1.5707963267948952 -0.6108652381980154 0.7853981633974507" />
            <geometry>
                <mesh filename="CAD/femur_a_left.stl" scale="0.001 0.001 0.001" />
            </geometry>
        </collision>
    </link>

    <link name="leg_4_femur_b">
        <inertial>
            <origin xyz="0.015152340349122202 0.015606805962863445 -0.005200437922150476" rpy="0.0 -0.0 0.0" />
            <mass value="0.0800214310563922" />
            <inertia ixx="9.693159673782727e-06" iyy="9.69315967378067e-06" izz="1.3901924233198195e-05" ixy="-5.667417293104799e-06" iyz="1.3985747771331174e-07" ixz="-1.3985747771380042e-07" />
        </inertial>
        <visual name="leg_4_femur_b_visual">
            <origin xyz="3.381781041866816e-09 -2.0514102416768765e-09 0.04770578320343582" rpy="-1.5707963267948983 0.6108652381980155 -0.785398163397451" />
            <geometry>
                <mesh filename="CAD/femur_b_left.stl" scale="0.001 0.001 0.001" />
            </geometry>
            <material name="gray"/>
        </visual>
        <collision name="leg_4_femur_b_collision">
            <origin xyz="3.381781041866816e-09 -2.0514102416768765e-09 0.04770578320343582" rpy="-1.5707963267948983 0.6108652381980155 -0.785398163397451" />
            <geometry>
                <mesh filename="CAD/femur_b_left.stl" scale="0.001 0.001 0.001" />
            </geometry>
        </collision>
    </link>

    <link name="leg_4_femur_c">
        <inertial>
            <origin xyz="0.004918304334170997 0.001088644639091907 -0.006733416303654894" rpy="0.0 -0.0 1.7105694144590052e-49" />
            <mass value="0.04839907214825549" />
            <inertia ixx="2.259983189186778e-05" iyy="2.246540765542314e-05" izz="4.1416921857185054e-06" ixy="-1.9297762130023104e-06" iyz="-3.2461726540463755e-06" ixz="-3.2931885882167364e-06" />
        </inertial>
        <visual name="leg_4_femur_c_visual">
            <origin xyz="-0.030759146618218897 0.030759142051410216 -0.04770578320343568" rpy="1.5707963267948948 -0.6108652381980154 0.7853981633974509" />
            <geometry>
                <mesh filename="CAD/femur_c_left.stl" scale="0.001 0.001 0.001" />
            </geometry>
            <material name="gray"/>
        </visual>
        <collision name="leg_4_femur_c_collision">
            <origin xyz="-0.030759146618218897 0.030759142051410216 -0.04770578320343568" rpy="1.5707963267948948 -0.6108652381980154 0.7853981633974509" />
            <geometry>
                <mesh filename="CAD/femur_c_left.stl" scale="0.001 0.001 0.001" />
            </geometry>
        </collision>
    </link>

    <link name="leg_4_tibia">
        <inertial>
            <origin xyz="-0.009819416807214924 0.005778831687368147 0.009277024870085917" rpy="0.0 -0.0 0.0" />
            <mass value="0.10828707727885012" />
            <inertia ixx="6.14743458385034e-05" iyy="5.543718848637254e-05" izz="0.00010718301590340821" ixy="-5.173583962738565e-05" iyz="1.4765439471690293e-06" ixz="2.259988236504463e-06" />
        </inertial>
        <visual name="leg_4_tibia_visual">
            <origin xyz="-0.008202439763281806 0.002121324305425212 -0.004749998110870184" rpy="2.356194490192348 -1.570796326794895 0" />
            <geometry>
                <mesh filename="CAD/tibia_left.stl" scale="0.001 0.001 0.001" />
            </geometry>
            <material name="gray"/>
        </visual>
        <collision name="leg_4_tibia_collision">
            <origin xyz="-0.008202439763281806 0.002121324305425212 -0.004749998110870184" rpy="2.356194490192348 -1.570796326794895 0" />
            <geometry>
                <mesh filename="CAD/tibia_left.stl" scale="0.001 0.001 0.001" />
            </geometry>
        </collision>
    </link>

    <!-- Leg 5 links -->
    <link name="leg_5_MG996R_c">
        <inertial>
            <origin xyz="0.02495279997108206 0.005249997797309771 0.008369892907461604" rpy="0.0 -0.0 0.0" />
            <mass value="0.207953278714177" />
            <inertia ixx="2.8467555536284428e-05" iyy="5.132523895244492e-05" izz="3.6226092838336074e-05" ixy="-3.0667541208093948e-12" iyz="-6.723519136278067e-12" ixz="4.736436528994054e-07" />
        </inertial>
        <visual name="leg_5_MG996R_c_visual">
            <origin xyz="0.0046999999999999 0.015000000000000114 0.0" rpy="-3.141592653589793 6.040509016842693e-17 0.0" />
            <geometry>
                <mesh filename="CAD/MG996R.stl" scale="0.001 0.001 0.001" />
            </geometry>
            <material name="gray"/>
        </visual>
        <collision name="leg_5_MG996R_c_collision">
            <origin xyz="0.0046999999999999 0.015000000000000114 0.0" rpy="-3.141592653589793 6.040509016842693e-17 0.0" />
            <geometry>
                <mesh filename="CAD/MG996R.stl" scale="0.001 0.001 0.001" />
            </geometry>
        </collision>
    </link>

        <link name="leg_5_MG996R_f">
        <inertial>
            <origin xyz="0.024952796767646532 -0.008369892907461363 -0.005250002202690496" rpy="0.0 -0.0 0.0" />
            <mass value="0.207953278714177" />
            <inertia ixx="2.8467555536284845e-05" iyy="3.622609283833499e-05" izz="5.132523895244451e-05" ixy="-4.736436528993941e-07" iyz="6.7235187076598694e-12" ixz="-3.066753800776492e-12" />
        </inertial>
        <visual name="leg_5_MG996R_f_visual">
            <origin xyz="0.0046999967965643185 1.6209256159527285e-16 0.004499999999999869" rpy="-1.5707963267948934 -6.024789561960091e-17 6.221678429513369e-17" />
            <geometry>
                <mesh filename="CAD/MG996R.stl" scale="0.001 0.001 0.001" />
            </geometry>
            <material name="gray"/>
        </visual>
        <collision name="leg_5_MG996R_f_collision">
            <origin xyz="0.0046999967965643185 1.6209256159527285e-16 0.004499999999999869" rpy="-1.5707963267948934 -6.024789561960091e-17 6.221678429513369e-17" />
            <geometry>
                <mesh filename="CAD/MG996R.stl" scale="0.001 0.001 0.001" />
            </geometry>
        </collision>
    </link>

    <link name="leg_5_MG996R_t">
        <inertial>
            <origin xyz="0.009997198350766717 -0.022696317092538557 -3.13560244435962e-10" rpy="0.0 -0.0 0.0" />
            <mass value="0.207953278714177" />
            <inertia ixx="2.8467555536283978e-05" iyy="3.6226092838331954e-05" izz="5.132523895244427e-05" ixy="-4.736436528999267e-07" iyz="-6.723519121011948e-12" ixz="3.0667543157725237e-12" />
        </inertial>
        <visual name="leg_5_MG996R_t_visual">
            <origin xyz="0.03024999832184889 -0.031066210000000136 0.009750001889130094" rpy="-1.5707963267948968 -9.966247464938834e-16 3.141592653589793" />
            <geometry>
                <mesh filename="CAD/MG996R.stl" scale="0.001 0.001 0.001" />
            </geometry>
            <material name="gray"/>
        </visual>
        <collision name="leg_5_MG996R_t_collision">
            <origin xyz="0.03024999832184889 -0.031066210000000136 0.009750001889130094" rpy="-1.5707963267948968 -9.966247464938834e-16 3.141592653589793" />
            <geometry>
                <mesh filename="CAD/MG996R.stl" scale="0.001 0.001 0.001" />
            </geometry>
        </collision>
    </link>

    <link name="leg_5_coxa_a">
        <inertial>
            <origin xyz="-0.018707157766217328 0.007180014340388445 0.0006271852210843454" rpy="0.0 -0.0 0.0" />
            <mass value="0.03329037594662584" />
            <inertia ixx="7.442769001220721e-07" iyy="7.679451567762314e-06" izz="8.134975133641342e-06" ixy="-8.064531578499612e-08" iyz="3.75858033756395e-09" ixz="6.649401827460747e-08" />
        </inertial>
        <visual name="leg_5_coxa_a_visual">
            <origin xyz="0.004749999999999819 0.006999999999999804 -0.0017500032034356084" rpy="3.141592653589793 3.4387371404817264e-17 -1.5707963267948934" />
            <geometry>
                <mesh filename="CAD/coxa_a_left.stl" scale="0.001 0.001 0.001" />
            </geometry>
            <material name="gray"/>
        </visual>
        <collision name="leg_5_coxa_a_collision">
            <origin xyz="0.004749999999999819 0.006999999999999804 -0.0017500032034356084" rpy="3.141592653589793 3.4387371404817264e-17 -1.5707963267948934" />
            <geometry>
                <mesh filename="CAD/coxa_a_left.stl" scale="0.001 0.001 0.001" />
            </geometry>
        </collision>
    </link>

    <link name="leg_5_coxa_b">
        <inertial>
            <origin xyz="0.022610969521651255 0.000133443845311788 -0.005835649360206625" rpy="0.0 -0.0 0.0" />
            <mass value="0.044908366157452306" />
            <inertia ixx="9.55692604283296e-07" iyy="1.4430293368226043e-05" izz="1.4869699270877838e-05" ixy="-1.2218626180183283e-07" iyz="-2.910353612427321e-09" ixz="1.4501111628370815e-07" />
        </inertial>
        <visual name="leg_5_coxa_b_visual">
            <origin xyz="0.0529999999999998 -1.1546319456101628e-16 0.04149999679656442" rpy="-3.141592653589793 3.43873714048172e-17 -1.5707963267948934" />
            <geometry>
                <mesh filename="CAD/coxa_b_left.stl" scale="0.001 0.001 0.001" />
            </geometry>
            <material name="gray"/>
        </visual>
        <collision name="leg_5_coxa_b_collision">
            <origin xyz="0.0529999999999998 -1.1546319456101628e-16 0.04149999679656442" rpy="-3.141592653589793 3.43873714048172e-17 -1.5707963267948934" />
            <geometry>
                <mesh filename="CAD/coxa_b_left.stl" scale="0.001 0.001 0.001" />
            </geometry>
        </collision>
    </link>

    <link name="leg_5_femur_a">
        <inertial>
            <origin xyz="0.006496602430152141 0.0038466359024208565 0.03907114287950222" rpy="0.0 -0.0 0.0" />
            <mass value="0.06532641332455366" />
            <inertia ixx="3.688598256566843e-05" iyy="4.486630708697365e-05" izz="8.434001460452941e-06" ixy="4.8635347484093146e-08" iyz="-2.4737107041702803e-08" ixz="-1.034765232499834e-05" />
        </inertial>
        <visual name="leg_5_femur_a_visual">
            <origin xyz="-1.0658141036401502e-16 0.0010000032034353668 -3.203435590126702e-09" rpy="1.5707963267948968 -0.6108652381980164 -2.2392425002089054e-16" />
            <geometry>
                <mesh filename="CAD/femur_a_left.stl" scale="0.001 0.001 0.001" />
            </geometry>
            <material name="gray"/>
        </visual>
        <collision name="leg_5_femur_a_collision">
            <origin xyz="-1.0658141036401502e-16 0.0010000032034353668 -3.203435590126702e-09" rpy="1.5707963267948968 -0.6108652381980164 -2.2392425002089054e-16" />
            <geometry>
                <mesh filename="CAD/femur_a_left.stl" scale="0.001 0.001 0.001" />
            </geometry>
        </collision>
    </link>

    <link name="leg_5_femur_b">
        <inertial>
            <origin xyz="-0.00032135955913910054 0.021749996796564634 -0.005200437922150734" rpy="0.0 -0.0 0.0" />
            <mass value="0.0800214310563922" />
            <inertia ixx="1.5360576966887043e-05" iyy="4.0257423806755455e-06" izz="1.3901924233198412e-05" ixy="9.289773199076096e-19" iyz="1.3551429210213564e-19" ixz="-1.9778834178156915e-07" />
        </inertial>
        <visual name="leg_5_femur_b_visual">
            <origin xyz="-5.329070518200751e-17 -3.2034353392162987e-09 0.04770578320343563" rpy="-1.5707963267948968 0.6108652381980164 -2.96418646694404e-17" />
            <geometry>
                <mesh filename="CAD/femur_b_left.stl" scale="0.001 0.001 0.001" />
            </geometry>
            <material name="gray"/>
        </visual>
        <collision name="leg_5_femur_b_collision">
            <origin xyz="-5.329070518200751e-17 -3.2034353392162987e-09 0.04770578320343563" rpy="-1.5707963267948968 0.6108652381980164 -2.96418646694404e-17" />
            <geometry>
                <mesh filename="CAD/femur_b_left.stl" scale="0.001 0.001 0.001" />
            </geometry>
        </collision>
    </link>

    <link name="leg_5_femur_c">
        <inertial>
            <origin xyz="0.004247557582456967 -0.002707974221878071 -0.016733416303654762" rpy="0.0 -0.0 -1.2154326714572548e-63" />
            <mass value="0.04839907214825549" />
            <inertia ixx="2.0602843560643996e-05" iyy="2.446239598664751e-05" izz="4.141692185719156e-06" ixy="-6.721211822218058e-08" iyz="3.324528587597925e-08" ixz="-4.6240266790329005e-06" />
        </inertial>
        <visual name="leg_5_femur_c_visual">
            <origin xyz="-5.329070518200751e-17 0.043500003203435375 -0.057705783203435564" rpy="1.5707963267948966 -0.6108652381980165 -2.2537258856938963e-16" />
            <geometry>
                <mesh filename="CAD/femur_c_left.stl" scale="0.001 0.001 0.001" />
            </geometry>
            <material name="gray"/>
        </visual>
        <collision name="leg_5_femur_c_collision">
            <origin xyz="-5.329070518200751e-17 0.043500003203435375 -0.057705783203435564" rpy="1.5707963267948966 -0.6108652381980165 -2.2537258856938963e-16" />
            <geometry>
                <mesh filename="CAD/femur_c_left.stl" scale="0.001 0.001 0.001" />
            </geometry>
        </collision>
    </link>

    <link name="leg_5_tibia">
        <inertial>
            <origin xyz="0.04674287116107255 -0.011029623704799651 -0.009277024870086201" rpy="0.0 -0.0 7.868944956231646e-108" />
            <mass value="0.10828707727885012" />
            <inertia ixx="6.719927535051885e-06" iyy="0.00011019160678982232" izz="0.00010718301590340908" ixy="3.018578676065051e-06" iyz="-5.53978769670516e-07" ixz="-2.642127245197851e-06" />
        </inertial>
        <visual name="leg_5_tibia_visual">
            <origin xyz="0.04529999832184892 -0.007299999999999869 0.0047499981108699175" rpy="-1.5707963267948966 1.5707963267948957 0" />
            <geometry>
                <mesh filename="CAD/tibia_left.stl" scale="0.001 0.001 0.001" />
            </geometry>
            <material name="gray"/>
        </visual>
        <collision name="leg_5_tibia_collision">
            <origin xyz="0.04529999832184892 -0.007299999999999869 0.0047499981108699175" rpy="-1.5707963267948966 1.5707963267948957 0" />
            <geometry>
                <mesh filename="CAD/tibia_left.stl" scale="0.001 0.001 0.001" />
            </geometry>
        </collision>
    </link>

    <!-- Leg 6 links -->
    <link name="leg_6_MG996R_c">
        <inertial>
            <origin xyz="0.021356604749801736 0.013931981634710731 0.008369892907461604" rpy="0.0 -0.0 0.0" />
            <mass value="0.207953278714177" />
            <inertia ixx="3.9896400311118874e-05" iyy="3.989639417761035e-05" izz="3.622609283833629e-05" ixy="-1.1428841708080472e-05" iyz="3.349118845851222e-07" ixz="3.349213930771113e-07" />
        </inertial>
        <visual name="leg_6_MG996R_c_visual">
            <origin xyz="0.0001414198781287057 0.006505382111249958 4.440892098500626e-18" rpy="-3.141592653589793 2.0112649739774984e-16 0.7853981633974471" />
            <geometry>
                <mesh filename="CAD/MG996R.stl" scale="0.001 0.001 0.001" />
            </geometry>
            <material name="gray"/>
        </visual>
        <collision name="leg_6_MG996R_c_collision">
            <origin xyz="0.0001414198781287057 0.006505382111249958 4.440892098500626e-18" rpy="-3.141592653589793 2.0112649739774984e-16 0.7853981633974471" />
            <geometry>
                <mesh filename="CAD/MG996R.stl" scale="0.001 0.001 0.001" />
            </geometry>
        </collision>
    </link>

    <link name="leg_6_MG996R_f">
        <inertial>
            <origin xyz="0.024952796767646505 -0.009630719405307088 0.00220609172344032" rpy="0.0 -0.0 0.0" />
            <mass value="0.207953278714177" />
            <inertia ixx="2.846755553628441e-05" iyy="4.377567261890787e-05" izz="4.3775659171870984e-05" ixy="-3.349188073534975e-07" iyz="7.549573057055295e-06" ixz="3.349144703087564e-07" />
        </inertial>
        <visual name="leg_6_MG996R_f_visual">
            <origin xyz="0.004699996796564301 0.0031819813014702623 0.0031819763648752364" rpy="-2.3561944901923395 1.3922145338705843e-18 -1.3922145338712252e-18" />
            <geometry>
                <mesh filename="CAD/MG996R.stl" scale="0.001 0.001 0.001" />
            </geometry>
            <material name="gray"/>
        </visual>
        <collision name="leg_6_MG996R_f_collision">
            <origin xyz="0.004699996796564301 0.0031819813014702623 0.0031819763648752364" rpy="-2.3561944901923395 1.3922145338705843e-18 -1.3922145338712252e-18" />
            <geometry>
                <mesh filename="CAD/MG996R.stl" scale="0.001 0.001 0.001" />
            </geometry>
        </collision>
    </link>

    <link name="leg_6_MG996R_t">
        <inertial>
            <origin xyz="-0.008979632074587993 -0.023117806796664572 -3.1356040430807753e-10" rpy="-1.232595164407831e-32 -1.2325951644078312e-32 -1.1599674393591448e-33" />
            <mass value="0.207953278714177" />
            <inertia ixx="3.187318053440943e-05" iyy="3.282046784020951e-05" izz="5.1325238952446874e-05" ixy="3.879268651024635e-06" iyz="-6.92276878432721e-12" ixz="-2.58572416608766e-12" />
        </inertial>
        <visual name="leg_6_MG996R_t_visual">
            <origin xyz="-0.0005771479096923749 -0.04335710702690275 0.009750001889129951" rpy="-1.5707963267948966 -8.698363882287291e-16 2.3561944901923435" />
            <geometry>
                <mesh filename="CAD/MG996R.stl" scale="0.001 0.001 0.001" />
            </geometry>
            <material name="gray"/>
        </visual>
        <collision name="leg_6_MG996R_t_collision">
            <origin xyz="-0.0005771479096923749 -0.04335710702690275 0.009750001889129951" rpy="-1.5707963267948966 -8.698363882287291e-16 2.3561944901923435" />
            <geometry>
                <mesh filename="CAD/MG996R.stl" scale="0.001 0.001 0.001" />
            </geometry>
        </collision>
    </link>

    <link name="leg_6_coxa_a">
        <inertial>
            <origin xyz="-0.008150925434577462 -0.018304994156193324 -0.000627185221084341" rpy="0.0 -0.0 -4.032124600414999e-68" />
            <mass value="0.03329037594662584" />
            <inertia ixx="4.131218918157248e-06" iyy="4.292509549727152e-06" izz="8.134975133641397e-06" ixy="-3.4675873338201415e-06" iyz="-4.4360653585976805e-08" ixz="-4.967608887462187e-08" />
        </inertial>
        <visual name="leg_6_coxa_a_visual">
            <origin xyz="0.008308500528477704 -0.001590989471538844 0.0017500032034356038" rpy="2.6334328169288294e-16 1.0633403582450601e-16 2.3561944901923435" />
            <geometry>
                <mesh filename="CAD/coxa_a_left.stl" scale="0.001 0.001 0.001" />
            </geometry>
            <material name="gray"/>
        </visual>
        <collision name="leg_6_coxa_a_collision">
            <origin xyz="0.008308500528477704 -0.001590989471538844 0.0017500032034356038" rpy="2.6334328169288294e-16 1.0633403582450601e-16 2.3561944901923435" />
            <geometry>
                <mesh filename="CAD/coxa_a_left.stl" scale="0.001 0.001 0.001" />
            </geometry>
        </collision>
    </link>

    <link name="leg_6_coxa_b">
        <inertial>
            <origin xyz="0.016082730051480344 -0.01589401195560855 -0.0058356493602066475" rpy="0.0 -0.0 0.0" />
            <mass value="0.044908366157452306" />
            <inertia ixx="7.570806724452794e-06" iyy="7.81517924805644e-06" izz="1.4869699270878e-05" ixy="6.737300381971345e-06" iyz="-1.0459627444668585e-07" ixz="1.0048041289666804e-07" />
        </inertial>
        <visual name="leg_6_coxa_b_visual">
            <origin xyz="0.03747666052847764 -0.03747666052846109 0.04149999679656441" rpy="-3.141592653589793 -1.0633403582450606e-16 -2.356194490192341" />
            <geometry>
                <mesh filename="CAD/coxa_b_left.stl" scale="0.001 0.001 0.001" />
            </geometry>
            <material name="gray"/>
        </visual>
        <collision name="leg_6_coxa_b_collision">
            <origin xyz="0.03747666052847764 -0.03747666052846109 0.04149999679656441" rpy="-3.141592653589793 -1.0633403582450606e-16 -2.356194490192341" />
            <geometry>
                <mesh filename="CAD/coxa_b_left.stl" scale="0.001 0.001 0.001" />
            </geometry>
        </collision>
    </link>

    <link name="leg_6_femur_a">
        <inertial>
            <origin xyz="0.007313766969462936 -0.0018738117298121894 0.03907114287950212" rpy="0.0 -0.0 4.032124600414999e-68" />
            <mass value="0.06532641332455366" />
            <inertia ixx="4.092478017380524e-05" iyy="4.082750947883695e-05" izz="8.434001460453158e-06" ixy="3.99016226065277e-06" iyz="7.299403352230955e-06" ixz="-7.334386904503235e-06" />
        </inertial>
        <visual name="leg_6_femur_a_visual">
            <origin xyz="0.0007071020514292847 0.0007071066182214736 -3.20343568116499e-09" rpy="1.5707963267948966 -0.6108652381980165 -0.78539816339745" />
            <geometry>
                <mesh filename="CAD/femur_a_left.stl" scale="0.001 0.001 0.001" />
            </geometry>
            <material name="gray"/>
        </visual>
        <collision name="leg_6_femur_a_collision">
            <origin xyz="0.0007071020514292847 0.0007071066182214736 -3.20343568116499e-09" rpy="1.5707963267948966 -0.6108652381980165 -0.78539816339745" />
            <geometry>
                <mesh filename="CAD/femur_a_left.stl" scale="0.001 0.001 0.001" />
            </geometry>
        </collision>
    </link>

    <link name="leg_6_femur_b">
        <inertial>
            <origin xyz="-0.015606805962844509 0.01515234034911952 0.004799562077849391" rpy="-1.232595164407831e-32 1.2325951644078312e-32 1.1599674393591448e-33" />
            <mass value="0.0800214310563922" />
            <inertia ixx="9.693159673780342e-06" iyy="9.693159673782077e-06" izz="1.3901924233198412e-05" ixy="5.6674172931058834e-06" iyz="-1.3985747771331253e-07" ixz="-1.398574777135294e-07" />
        </inertial>
        <visual name="leg_6_femur_b_visual">
            <origin xyz="2.051429248695058e-09 3.3817785016765357e-09 0.057705783203435744" rpy="-1.5707963267948966 0.6108652381980164 0.7853981633974499" />
            <geometry>
                <mesh filename="CAD/femur_b_left.stl" scale="0.001 0.001 0.001" />
            </geometry>
            <material name="gray"/>
        </visual>
        <collision name="leg_6_femur_b_collision">
            <origin xyz="2.051429248695058e-09 3.3817785016765357e-09 0.057705783203435744" rpy="-1.5707963267948966 0.6108652381980164 0.7853981633974499" />
            <geometry>
                <mesh filename="CAD/femur_b_left.stl" scale="0.001 0.001 0.001" />
            </geometry>
        </collision>
    </link>
    
    <link name="leg_6_femur_c">
        <inertial>
            <origin xyz="0.0010886446391108872 -0.0049183043341680666 -0.016733416303654974" rpy="0.0 -0.0 0.0" />
            <mass value="0.04839907214825549" />
            <inertia ixx="2.2465407655423682e-05" iyy="2.2599831891867822e-05" izz="4.14169218571959e-06" ixy="1.9297762130017666e-06" iyz="3.2931885882170625e-06" ixz="-3.2461726540463213e-06" />
        </inertial>
        <visual name="leg_6_femur_c_visual">
            <origin xyz="0.03075914205142933 0.030759146618221607 -0.05770578320343578" rpy="1.5707963267948966 -0.6108652381980165 -0.7853981633974499" />
            <geometry>
                <mesh filename="CAD/femur_c_left.stl" scale="0.001 0.001 0.001" />
            </geometry>
            <material name="gray"/>
        </visual>
        <collision name="leg_6_femur_c_collision">
            <origin xyz="0.03075914205142933 0.030759146618221607 -0.05770578320343578" rpy="1.5707963267948966 -0.6108652381980165 -0.7853981633974499" />
            <geometry>
                <mesh filename="CAD/femur_c_left.stl" scale="0.001 0.001 0.001" />
            </geometry>
        </collision>
    </link>

    <link name="leg_6_tibia">
        <inertial>
            <origin xyz="0.005778831687387029 0.009819416807217537 -0.0012229751299139657" rpy="0.0 -0.0 1.255085382316192e-62" />
            <mass value="0.10828707727885012" />
            <inertia ixx="5.543718848637254e-05" iyy="6.147434583850256e-05" izz="0.00010718301590340908" ixy="5.173583962738523e-05" iyz="-2.2599882365042464e-06" ixz="1.476543947169463e-06" />
        </inertial>
        <visual name="leg_6_tibia_visual">
            <origin xyz="0.0021213243054440944 0.008202439763284417 -0.015249998110870093" rpy="0.7853981633974483 -1.5707963267948957 0" />
            <geometry>
                <mesh filename="CAD/tibia_left.stl" scale="0.001 0.001 0.001" />
            </geometry>
            <material name="gray"/>
        </visual>
        <collision name="leg_6_tibia_collision">
            <origin xyz="0.0021213243054440944 0.008202439763284417 -0.015249998110870093" rpy="0.7853981633974483 -1.5707963267948957 0" />
            <geometry>
                <mesh filename="CAD/tibia_left.stl" scale="0.001 0.001 0.001" />
            </geometry>
        </collision>
    </link>

    <!-- Leg 1 joints -->
    <joint name="base_leg_1_MG996R_c" type="fixed">
        <origin xyz="-0.03264053 -0.060065150000000005 0.013999999999999999" rpy="3.141592653589793 -0.0 0.0" />
        <parent link="base" />
        <child link="leg_1_MG996R_c" />
    </joint>

    <joint name="leg_1_coxa_joint" type="revolute">
        <origin xyz="-0.028425689999999997 0.021001069999999997 0.031066209999999997" rpy="3.141592653589793 -0.0 3.0033433937731107e-33" />
        <parent link="leg_1_MG996R_c" />
        <child link="leg_1_coxa_b" />
        <axis xyz="0.0 0.0 1.0" />
        <limit lower="-1.570796" upper="1.570796" effort="1000000" velocity="1000000" />
    </joint>

    <joint name="leg_1_coxa_b_MG996R_f" type="fixed">
        <origin xyz="-0.02916816000000001 -0.03906765 -0.00535" rpy="6.626416783217546e-33 -1.5707963267948966 0" />
        <parent link="leg_1_coxa_b" />
        <child link="leg_1_MG996R_f" />
    </joint>

    <joint name="leg_1_MG996R_f_coxa_a" type="fixed">
        <origin xyz="0.0494 0.0 0.0" rpy="6.704561300464011e-33 1.5707963267948966 0" />
        <parent link="leg_1_MG996R_f" />
        <child link="leg_1_coxa_a" />
    </joint>

    <joint name="leg_1_femur_joint" type="revolute">
        <origin xyz="0.03495 0.025679440000000008 0.01825481999999999" rpy="6.704561300464011e-33 1.5707963267948966 0" />
        <parent link="leg_1_MG996R_f" />
        <child link="leg_1_femur_a" />
        <axis xyz="0.707107 -0.707107 1.999343393356845e-32" />
        <limit lower="-0.785398" upper="2.356194" effort="1000000" velocity="1000000" />
    </joint>

    <joint name="leg_1_femur_a_femur_b" type="fixed">
        <origin xyz="-0.0007071000000000005 0.000707109999999993 0.04770578" rpy="-3.141592653589793 1.6337250741359954e-17 -5.551115123125783e-17" />
        <parent link="leg_1_femur_a" />
        <child link="leg_1_femur_b" />
    </joint>
    
    <joint name="leg_1_femur_b_femur_c" type="fixed">
        <origin xyz="0.03075914000000001 0.030759150000000002 0.0" rpy="3.141592653589793 -0.0 -7.002961686799377e-34" />
        <parent link="leg_1_femur_b" />
        <child link="leg_1_femur_c" />
    </joint>

    <joint name="leg_1_tibia_joint" type="revolute">
        <origin xyz="-0.020918530000000005 -0.020918540000000013 0.06344154" rpy="4.0156312877350055e-17 1.6337250741359954e-17 -5.551115123125783e-17" />
        <parent link="leg_1_femur_a" />
        <child link="leg_1_MG996R_t" />
        <axis xyz="-0.707107 0.707107 -1.8398022027031245e-17" />
        <limit lower="-1.570796" upper="1.570796" effort="1000000" velocity="1000000" />
    </joint>

    <joint name="leg_1_MG996R_t_tibia" type="fixed">
        <origin xyz="0.033881879999999996 -0.013446489999999986 -0.005250000000000004" rpy="3.141592653589793 -1.6337250741359945e-17 5.551115123125788e-17" />
        <parent link="leg_1_MG996R_t" />
        <child link="leg_1_tibia" />
    </joint>

    <!-- Leg 2 joints -->
    <joint name="base_leg_2_MG996R_c" type="fixed">
        <origin xyz="-0.046200000000000005 0.00525 0.013999999999999999" rpy="3.141592653589793 -0.0 0.0" />
        <parent link="base" />
        <child link="leg_2_MG996R_c" />
    </joint>

    <joint name="leg_2_coxa_joint" type="revolute">
        <origin xyz="-0.03495 0.00525 0.031066209999999997" rpy="3.141592653589793 -0.0 2.7658489543714626e-32" />
        <parent link="leg_2_MG996R_c" />
        <child link="leg_2_coxa_b" />
        <axis xyz="0.0 0.0 1.0" />
        <limit lower="-1.570796" upper="1.570796" effort="1000000" velocity="1000000" />
    </joint>

    <joint name="leg_2_coxa_b_MG996R_f" type="fixed">
        <origin xyz="-0.037750000000000006 -0.006999999999999999 -0.00535" rpy="-3.619061808167923e-31 -1.5707963267948966 0" />
        <parent link="leg_2_coxa_b" />
        <child link="leg_2_MG996R_f" />
    </joint>

    <joint name="leg_2_MG996R_f_coxa_a" type="fixed">
        <origin xyz="0.0494 0.0 0.01049999999999999" rpy="-3.8956467036050695e-31 1.5707963267948966 0" />
        <parent link="leg_2_MG996R_f" />
        <child link="leg_2_coxa_a" />
    </joint>
    
    <joint name="leg_2_femur_joint" type="revolute">
        <origin xyz="0.03495 0.031066209999999997 0.005249999999999986" rpy="-3.8956467036050695e-31 1.5707963267948966 0" />
        <parent link="leg_2_MG996R_f" />
        <child link="leg_2_femur_a" />
        <axis xyz="0.0 -1.0 -3.8956467036050695e-31" />
        <limit lower="-0.785398" upper="2.356194" effort="1000000" velocity="1000000" />
    </joint>

    <joint name="leg_2_femur_a_femur_b" type="fixed">
        <origin xyz="0.0 0.0010000000000000009 0.04770578" rpy="-3.141592653589793 -4.930380657631324e-32 -1.920702115641966e-62" />
        <parent link="leg_2_femur_a" />
        <child link="leg_2_femur_b" />
    </joint>

    <joint name="leg_2_femur_b_femur_c" type="fixed">
        <origin xyz="0.0 0.0435 -0.01" rpy="3.141592653589793 -4.930380657631324e-32 1.0938894043115288e-62" />
        <parent link="leg_2_femur_b" />
        <child link="leg_2_femur_c" />
    </joint>

    <joint name="leg_2_tibia_joint" type="revolute">
        <origin xyz="-0.029583280000000017 0.0 0.06344154" rpy="4.105753625025497e-33 -4.930380657631324e-32 -1.920702115641966e-62" />
        <parent link="leg_2_femur_a" />
        <child link="leg_2_MG996R_t" />
        <axis xyz="0.0 1.0 -2.2186712959340957e-31" />
        <limit lower="-1.570796" upper="1.570796" effort="1000000" velocity="1000000" />
    </joint>

    <joint name="leg_2_MG996R_t_tibia" type="fixed">
        <origin xyz="-0.03495000000000001 -0.031066209999999997 -0.005250000000000004" rpy="6.162975822039155e-33 8.277254298276836e-32 9.860761315262648e-32" />
        <parent link="leg_2_MG996R_t" />
        <child link="leg_2_tibia" />
    </joint>

    <!-- Leg 3 joints -->
    <joint name="base_leg_3_MG996R_c" type="fixed">
        <origin xyz="-0.04006515 0.05264053 0.013999999999999999" rpy="3.141592653589793 -0.0 0.0" />
        <parent link="base" />
        <child link="leg_3_MG996R_c" />
    </joint>

    <joint name="leg_3_coxa_joint" type="revolute">
        <origin xyz="-0.021001069999999997 -0.028425690000000003 0.031066209999999997" rpy="-3.141592653589793 -2.4651903288156613e-32 1.3389511120490542e-32" />
        <parent link="leg_3_MG996R_c" />
        <child link="leg_3_coxa_b" />
        <axis xyz="-2.465190328815662e-32 9.860761315262648e-32 1.0000000000000002" />
        <limit lower="-1.570796" upper="1.570796" effort="1000000" velocity="1000000" />
    </joint>

    <joint name="leg_3_coxa_b_MG996R_f" type="fixed">
        <origin xyz="-0.03906765 0.02916816000000001 -0.00535" rpy="1.4658381573891182e-31 -1.5707963267948966 0" />
        <parent link="leg_3_coxa_b" />
        <child link="leg_3_MG996R_f" />
    </joint>

    <joint name="leg_3_MG996R_f_coxa_a" type="fixed">
        <origin xyz="0.0494 0.0 0.0" rpy="1.0854240133026478e-31 1.5707963267948966 0" />
        <parent link="leg_3_MG996R_f" />
        <child link="leg_3_coxa_a" />
    </joint>

    <joint name="leg_3_femur_joint" type="revolute">
        <origin xyz="0.03495 0.01825481999999999 -0.025679439999999998" rpy="1.0854240133026478e-31 1.5707963267948966 0" />
        <parent link="leg_3_MG996R_f" />
        <child link="leg_3_femur_a" />
        <axis xyz="-0.707107 -0.707107 9.418262515581811e-32" />
        <limit lower="-0.785398" upper="2.356194" effort="1000000" velocity="1000000" />
    </joint>

    <joint name="leg_3_femur_a_femur_b" type="fixed">
        <origin xyz="0.0007071100000000019 0.0007071000000000005 0.04770578" rpy="-3.141592653589793 1.5085330968733485e-17 -5.551115123125785e-17" />
        <parent link="leg_3_femur_a" />
        <child link="leg_3_femur_b" />
    </joint>

    <joint name="leg_3_femur_b_femur_c" type="fixed">
        <origin xyz="-0.030759150000000013 0.03075914000000001 -8.881784197001253e-18" rpy="3.141592653589793 4.173065908753796e-19 -1.6653345369377353e-16" />
        <parent link="leg_3_femur_b" />
        <child link="leg_3_femur_c" />
    </joint>

    <joint name="leg_3_tibia_joint" type="revolute">
        <origin xyz="-0.020918540000000006 0.020918530000000005 0.06344154" rpy="1.801271842119308e-17 1.5085330968733485e-17 -5.551115123125785e-17" />
        <parent link="leg_3_femur_a" />
        <child link="leg_3_MG996R_t" />
        <axis xyz="0.707107 0.7071069999999999 -4.656802568901692e-17" />
        <limit lower="-1.570796" upper="1.570796" effort="1000000" velocity="1000000" />
    </joint>

    <joint name="leg_3_MG996R_t_tibia" type="fixed">
        <origin xyz="-0.04668051 0.0027462499999999857 0.005250000000000004" rpy="-1.8012718421193043e-17 -1.5085330968733362e-17 5.551115123125774e-17" />
        <parent link="leg_3_MG996R_t" />
        <child link="leg_3_tibia" />
    </joint>

    <!-- Leg 4 joints -->
    <joint name="base_leg_4_MG996R_c" type="fixed">
        <origin xyz="0.04006515 0.05264053 0.013999999999999999" rpy="3.141592653589793 -0.0 0.0" />
        <parent link="base" />
        <child link="leg_4_MG996R_c" />
    </joint>

    <joint name="leg_4_coxa_joint" type="revolute">
        <origin xyz="0.021001069999999997 -0.028425690000000003 0.031066209999999997" rpy="3.141592653589793 -4.930380657631324e-32 2.4249584075869093e-48" />
        <parent link="leg_4_MG996R_c" />
        <child link="leg_4_coxa_b" />
        <axis xyz="-4.930380657631324e-32 0.0 1.0" />
        <limit lower="-1.570796" upper="1.570796" effort="1000000" velocity="1000000" />
    </joint>

    <joint name="leg_4_coxa_b_MG996R_f" type="fixed">
        <origin xyz="0.03906765 0.02916816000000001 -0.00535" rpy="-3.141592653589793 -1.5707963267948966 0" />
        <parent link="leg_4_coxa_b" />
        <child link="leg_4_MG996R_f" />
    </joint>

    <joint name="leg_4_MG996R_f_coxa_a" type="fixed">
        <origin xyz="0.0494 -1.7763568394002505e-17 1.7763568394002505e-17" rpy="3.141592653589793 -1.5707963267948966 0" />
        <parent link="leg_4_MG996R_f" />
        <child link="leg_4_coxa_a" />
    </joint>

    <joint name="leg_4_femur_joint" type="revolute">
        <origin xyz="0.03495 -0.01825481999999999 -0.02567943999999998" rpy="3.141592653589793 -1.5707963267948966 0" />
        <parent link="leg_4_MG996R_f" />
        <child link="leg_4_femur_a" />
        <axis xyz="0.707107 -0.7071070000000002 -4.803503751454446e-31" />
        <limit lower="-2.356194" upper="0.785398" effort="1000000" velocity="1000000" />
    </joint>

    <joint name="leg_4_femur_a_femur_b" type="fixed">
        <origin xyz="-0.0007071100000000019 0.0007070999999999828 0.04770577999999999" rpy="3.141592653589793 -3.225719489184397e-17 9.860761315262642e-32" />
        <parent link="leg_4_femur_a" />
        <child link="leg_4_femur_b" />
    </joint>

    <joint name="leg_4_femur_b_femur_c" type="fixed">
        <origin xyz="0.030759150000000002 0.03075914000000001 8.881784197001253e-18" rpy="-3.141592653589793 -1.5502637559609293e-17 7.224469708134766e-36" />
        <parent link="leg_4_femur_b" />
        <child link="leg_4_femur_c" />
    </joint>

    <joint name="leg_4_tibia_joint" type="revolute">
        <origin xyz="0.020918540000000006 0.020918529999999987 0.06344153999999999" rpy="-1.742027637138999e-17 -3.225719489184397e-17 9.860761315262642e-32" />
        <parent link="leg_4_femur_a" />
        <child link="leg_4_MG996R_t" />
        <axis xyz="0.7071069999999999 -0.707107 2.3796817056033812e-17" />
        <limit lower="-1.570796" upper="1.570796" effort="1000000" velocity="1000000" />
    </joint>

    <joint name="leg_4_MG996R_t_tibia" type="fixed">
        <origin xyz="0.04668051000000002 0.0027462499999999857 -0.0052500000000000125" rpy="1.742027637139001e-17 3.225719489184374e-17 -1.5032353460464818e-35" />
        <parent link="leg_4_MG996R_t" />
        <child link="leg_4_tibia" />
    </joint>

    <!-- Leg 5 joints -->
    <joint name="base_leg_5_MG996R_c" type="fixed">
        <origin xyz="0.046200000000000005 0.00525 0.013999999999999999" rpy="3.141592653589793 -0.0 0.0" />
        <parent link="base" />
        <child link="leg_5_MG996R_c" />
    </joint>

    <joint name="leg_5_coxa_joint" type="revolute">
        <origin xyz="0.03495 0.00525 0.031066209999999997" rpy="3.141592653589793 -0.0 0.0" />
        <parent link="leg_5_MG996R_c" />
        <child link="leg_5_coxa_b" />
        <axis xyz="0.0 0.0 1.0" />
        <limit lower="-1.570796" upper="1.570796" effort="1000000" velocity="1000000" />
    </joint>

    <joint name="leg_5_coxa_b_MG996R_f" type="fixed">
        <origin xyz="0.048249999999999994 -0.006999999999999999 -0.00535" rpy="3.141592653589793 -1.5707963267948966 0" />
        <parent link="leg_5_coxa_b" />
        <child link="leg_5_MG996R_f" />
    </joint>

    <joint name="leg_5_MG996R_f_coxa_a" type="fixed">
        <origin xyz="0.0494 0.0 0.0" rpy="-3.141592653589793 -1.5707963267948966 0" />
        <parent link="leg_5_MG996R_f" />
        <child link="leg_5_coxa_a" />
    </joint>

    <joint name="leg_5_femur_joint" type="revolute">
        <origin xyz="0.03495 -0.031066209999999997 -0.005250000000000004" rpy="-3.141592653589793 -1.5707963267948966 0" />
        <parent link="leg_5_MG996R_f" />
        <child link="leg_5_femur_a" />
        <axis xyz="0.0 -1.0 2.0717667630298715e-33" />
        <limit lower="-2.356194" upper="0.785398" effort="1000000" velocity="1000000" />
    </joint>

    <joint name="leg_5_femur_a_femur_b" type="fixed">
        <origin xyz="0.0 0.0010000000000000009 0.04770578" rpy="3.141592653589793 -9.589690804707752e-49 5.551115123125783e-17" />
        <parent link="leg_5_femur_a" />
        <child link="leg_5_femur_b" />
    </joint>

    <joint name="leg_5_femur_b_femur_c" type="fixed">
        <origin xyz="0.0 0.0435 -0.01" rpy="-3.141592653589793 -4.9303806576313227e-32 1.2325951644078307e-32" />
        <parent link="leg_5_femur_b" />
        <child link="leg_5_femur_c" />
    </joint>

    <joint name="leg_5_tibia_joint" type="revolute">
        <origin xyz="0.029583280000000017 0.0 0.06344154" rpy="-3.2028555402441196e-32 -9.589690804707752e-49 5.551115123125783e-17" />
        <parent link="leg_5_femur_a" />
        <child link="leg_5_MG996R_t" />
        <axis xyz="-5.551115123125783e-17 -1.0 -3.4512664603419266e-31" />
        <limit lower="-1.570796" upper="1.570796" effort="1000000" velocity="1000000" />
    </joint>

    <joint name="leg_5_MG996R_t_tibia" type="fixed">
        <origin xyz="-0.014450000000000003 -0.031066209999999997 -0.005250000000000004" rpy="-3.141592653589793 -8.484424295716667e-47 -5.551115123125763e-17" />
        <parent link="leg_5_MG996R_t" />
        <child link="leg_5_tibia" />
    </joint>

    <!-- Leg 6 joints -->
    <joint name="base_leg_6_MG996R_c" type="fixed">
        <origin xyz="0.03264053 -0.060065150000000005 0.013999999999999999" rpy="3.141592653589793 -0.0 0.0" />
        <parent link="base" />
        <child link="leg_6_MG996R_c" />
    </joint>

    <joint name="leg_6_coxa_joint" type="revolute">
        <origin xyz="0.028425689999999997 0.021001069999999997 0.031066209999999997" rpy="-3.141592653589793 -0.0 1.251344390463166e-32" />
        <parent link="leg_6_MG996R_c" />
        <child link="leg_6_coxa_b" />
        <axis xyz="0.0 6.162975822039155e-33 1.0" />
        <limit lower="-1.570796" upper="1.570796" effort="1000000" velocity="1000000" />
    </joint>

    <joint name="leg_6_coxa_b_MG996R_f" type="fixed">
        <origin xyz="0.02916816000000001 -0.03906765 -0.00535" rpy="3.141592653589793 -1.5707963267948966 0" />
        <parent link="leg_6_coxa_b" />
        <child link="leg_6_MG996R_f" />
    </joint>

    <joint name="leg_6_MG996R_f_coxa_a" type="fixed">
        <origin xyz="0.0494 -1.7763568394002505e-17 0.0" rpy="-2.4442543409198012e-32 -1.5707963267948966 0" />
        <parent link="leg_6_MG996R_f" />
        <child link="leg_6_coxa_a" />
    </joint>

    <joint name="leg_6_femur_joint" type="revolute">
        <origin xyz="0.03495 -0.025679440000000008 0.01825481999999999" rpy="3.141592653589793 -1.5707963267948966 0" />
        <parent link="leg_6_MG996R_f" />
        <child link="leg_6_femur_a" />
        <axis xyz="-0.707107 -0.707107 1.4803983593078296e-34" />
        <limit lower="-2.356194" upper="0.785398" effort="1000000" velocity="1000000" />
    </joint>

    <joint name="leg_6_femur_a_femur_b" type="fixed">
        <origin xyz="0.0007071000000000005 0.000707109999999993 0.057705780000000005" rpy="3.141592653589793 -5.59284578221332e-17 -5.551115123125784e-17" />
        <parent link="leg_6_femur_a" />
        <child link="leg_6_femur_b" />
    </joint>

    <joint name="leg_6_femur_b_femur_c" type="fixed">
        <origin xyz="-0.03075914 0.030759150000000002 0.0" rpy="-3.141592653589793 1.59199441504844e-17 -5.551115123125784e-17" />
        <parent link="leg_6_femur_b" />
        <child link="leg_6_femur_c" />
    </joint>

    <joint name="leg_6_tibia_joint" type="revolute">
        <origin xyz="0.020918530000000005 -0.020918540000000013 0.06344154" rpy="-6.289234938331015e-17 -5.59284578221332e-17 -5.551115123125784e-17" />
        <parent link="leg_6_femur_a" />
        <child link="leg_6_MG996R_t" />
        <axis xyz="-0.7071069999999999 -0.7071069999999999 -2.4934463508646154e-17" />
        <limit lower="-1.570796" upper="1.570796" effort="1000000" velocity="1000000" />
    </joint>

    <joint name="leg_6_MG996R_t_tibia" type="fixed">
        <origin xyz="0.0027462499999999857 -0.04668051 0.005250000000000004" rpy="6.289234938331016e-17 5.592845782213298e-17 5.551115123125774e-17" />
        <parent link="leg_6_MG996R_t" />
        <child link="leg_6_tibia" />
    </joint>

</robot>
